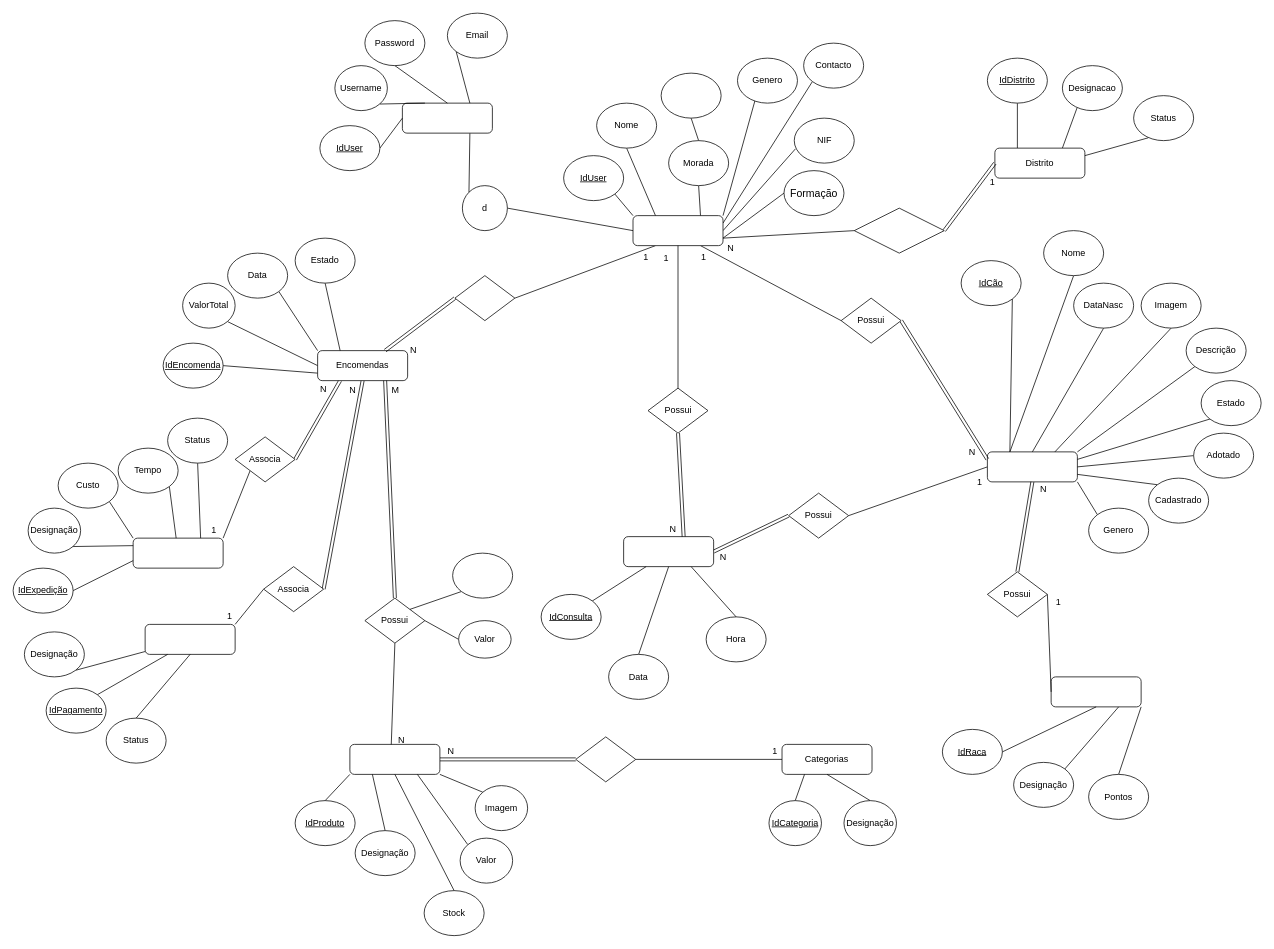
The diagram is 1274 pixels wide and 949 high, and some of its shapes have lost their labels. The shapes that lost their labels are listed below. From the top down, each one's box as (x1, y1, x2, y2) in pixels, then its label:
(660, 72, 721, 118): Codigo Postal
(402, 102, 492, 133): User
(632, 215, 723, 246): UserProfile
(854, 207, 944, 253): Reside
(454, 275, 515, 321): Realiza
(987, 451, 1077, 482): Caes
(132, 537, 223, 568): TipoExpedição
(623, 536, 714, 567): ConsultasVeterinário
(452, 552, 513, 598): Quantidade
(144, 624, 235, 654): TipoPagamento
(1050, 676, 1141, 707): Raça
(349, 744, 440, 774): Produto
(575, 736, 636, 782): Contem
